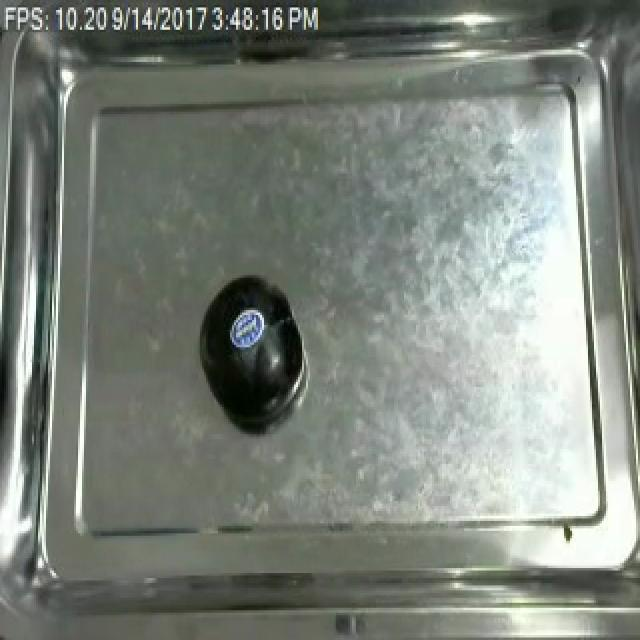Fruit: (190, 268, 308, 424)
